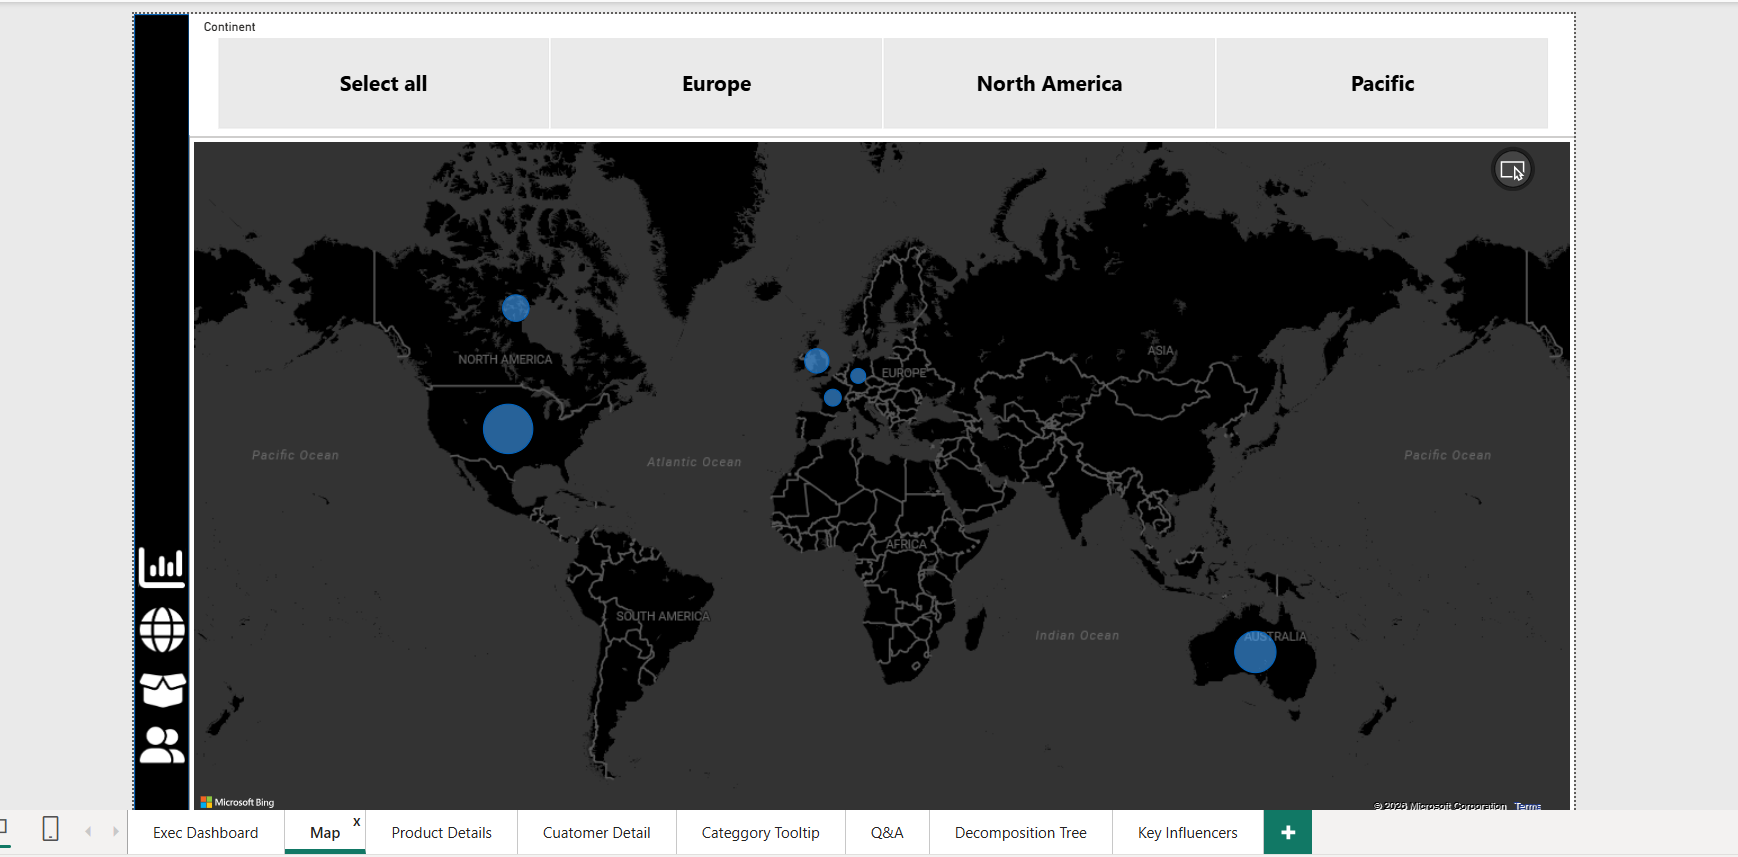

The page's visual inventory and layout, read from the dashboard file:
{"tool":"powerbi","page":{"name":"Map","canvas":[1280,720],"ordinal":1},"visuals":[{"type":"shape","box":[0,0,49.4,720],"z":0},{"type":"actionButton","box":[0,460.8,49.4,62],"z":0,"group":"g1"},{"type":"map","fields":{"Size":["Measure Table.Total Orders"],"Category":["Territory Lookup.Country"]},"box":[48.6,108.3,1231.9,611.1],"z":1000},{"type":"actionButton","box":[1.6,523.2,68.4,48.1],"z":1000,"group":"g1"},{"type":"slicer","fields":{"Values":["Territory Lookup.Continent"]},"box":[48.6,0,1231.9,108.3],"z":2000},{"type":"actionButton","box":[1.3,576,68.4,49.4],"z":2000,"group":"g1"},{"type":"group","id":"g1","title":"Navigation Buttons","box":[0,460.8,101.3,212.7],"z":3000},{"type":"actionButton","box":[1.3,625.4,100,48.1],"z":3000,"group":"g1"}]}

Visuals, with their boxes on the page's 1280x720 design canvas (x1, y1, x2, y2). These are canvas units, not pixel positions in the 1738x857 screenshot, which may show the page scaled, cropped or inside an application window:
shape: bbox=[0, 0, 49, 720]
actionButton: bbox=[0, 461, 49, 523]
map - Measure Table.Total Orders x Territory Lookup.Country: bbox=[49, 108, 1280, 719]
actionButton: bbox=[2, 523, 70, 571]
slicer - Territory Lookup.Continent: bbox=[49, 0, 1280, 108]
actionButton: bbox=[1, 576, 70, 625]
"Navigation Buttons" group: bbox=[0, 461, 101, 674]
actionButton: bbox=[1, 625, 101, 674]
